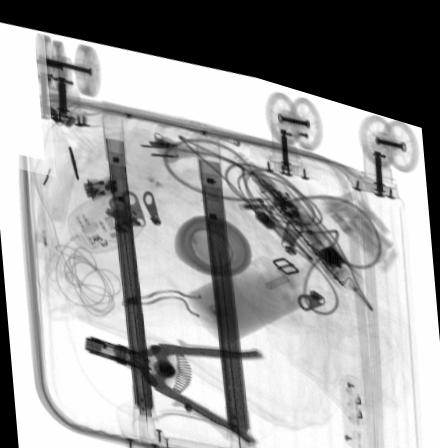Pliers: (83, 331, 264, 430)
